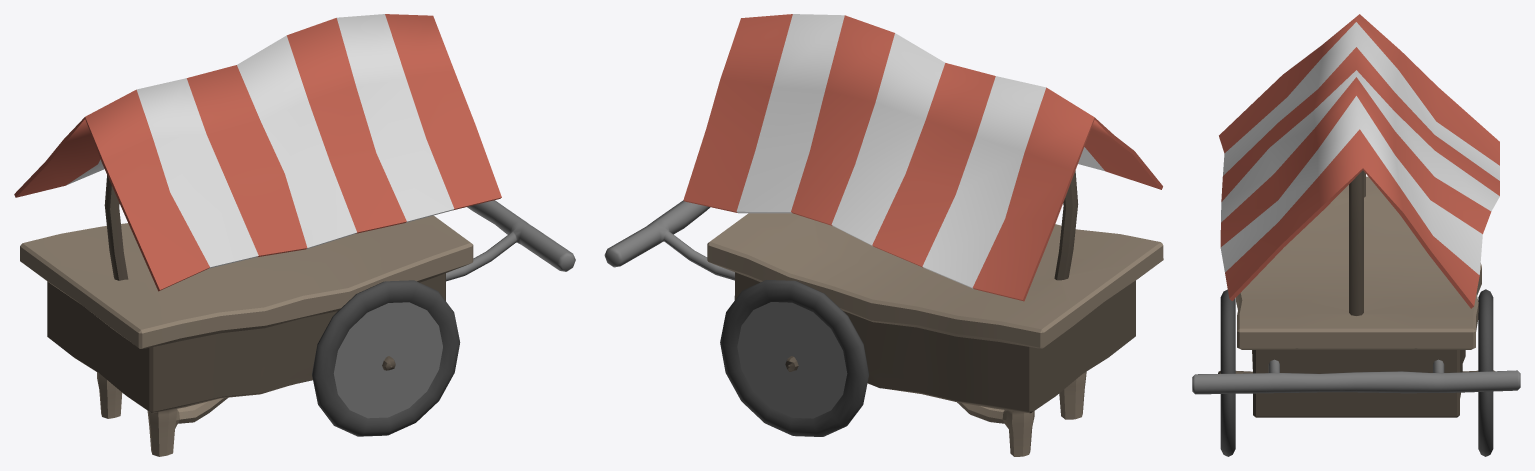
File: barraca.fbx
3 renders of one model, left to right at view 1: azimuth 30°, elevation 25°; view 2: azimuth 150°, elevation 25°; view 3: azimuth 270°, elevation 25°, orthographic. The views are drawn at different scales.
Visible parts, largest first — view 1: pPlane1, pCube1, pTorus1, pCylinder2; view 2: pPlane1, pCube1, pTorus2, pCylinder2; view 3: pPlane1, pCube1, pCylinder2, pTorus2, pTorus1.
Boxes of the visible parts, <box> form: pPlane1: <box>14,14,501,291</box>; pCube1: <box>20,175,473,456</box>; pTorus1: <box>312,280,460,436</box>; pCylinder2: <box>446,200,575,281</box>; pPlane1: <box>683,14,1162,301</box>; pCube1: <box>707,170,1163,456</box>; pTorus2: <box>720,280,869,436</box>; pCylinder2: <box>604,200,734,280</box>; pPlane1: <box>1219,14,1499,308</box>; pCube1: <box>1218,170,1494,417</box>; pCylinder2: <box>1192,359,1520,394</box>; pTorus2: <box>1478,289,1493,456</box>; pTorus1: <box>1220,289,1235,456</box>.
Bounding box in the file's own units: 352 × 297 × 244.
